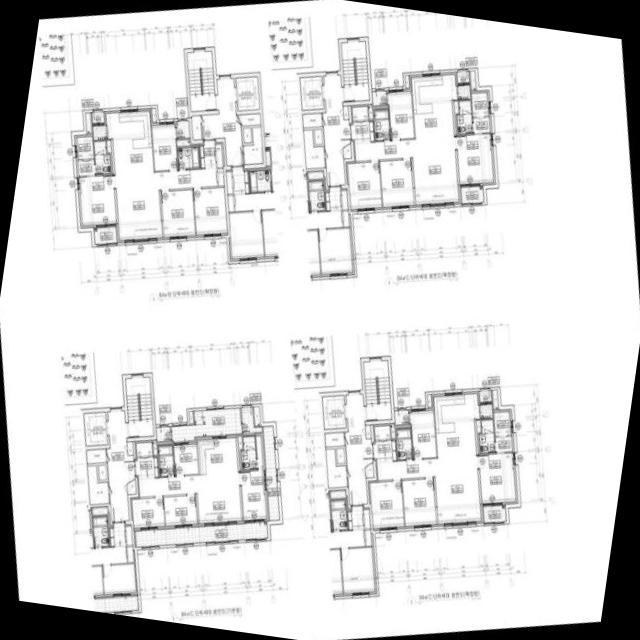background: (0, 0, 640, 640)
space_balconi: (135, 522, 268, 546), (171, 408, 241, 441), (263, 426, 279, 520), (94, 227, 117, 244), (483, 505, 506, 522), (461, 186, 483, 203)
space_bedroom: (240, 436, 266, 520), (456, 133, 493, 184), (479, 452, 516, 503), (79, 175, 116, 225), (347, 161, 382, 209), (370, 480, 404, 528), (402, 478, 436, 526), (380, 159, 414, 207), (161, 189, 195, 236), (193, 187, 227, 234), (388, 91, 414, 139), (410, 410, 436, 458), (151, 124, 177, 170), (131, 497, 165, 527), (164, 495, 197, 525), (174, 444, 198, 475)
space_dressroom: (471, 92, 490, 133), (493, 411, 512, 452), (76, 136, 94, 176)
space_elevator: (235, 77, 259, 110), (322, 395, 345, 429), (84, 412, 107, 445), (300, 76, 323, 109)
space_elevator_hall: (201, 78, 243, 165), (106, 410, 134, 521), (345, 394, 373, 504), (323, 75, 350, 185)
space_front: (199, 140, 223, 168), (350, 120, 374, 143), (135, 456, 158, 479), (373, 440, 397, 462)
space_kitchen: (106, 110, 153, 174), (411, 74, 458, 138), (434, 394, 480, 457), (197, 437, 238, 474)
space_living_room: (115, 167, 224, 239), (354, 137, 459, 204), (377, 456, 481, 523), (138, 472, 242, 523)
space_other: (87, 465, 109, 504), (303, 130, 325, 168), (326, 449, 347, 487), (243, 127, 263, 164), (86, 449, 106, 463), (302, 113, 322, 127), (325, 432, 344, 446), (238, 113, 260, 125), (176, 120, 190, 138), (106, 140, 113, 173), (156, 426, 171, 441), (136, 442, 152, 456), (374, 425, 390, 439), (352, 106, 368, 120), (192, 115, 201, 139), (394, 410, 409, 424), (93, 125, 107, 139), (372, 91, 386, 105), (480, 404, 492, 418), (458, 85, 470, 99), (476, 420, 481, 453), (365, 462, 374, 477), (127, 479, 136, 494), (336, 448, 345, 463), (454, 101, 458, 134), (238, 437, 242, 470), (343, 143, 351, 158), (243, 128, 251, 143), (98, 465, 106, 480), (85, 113, 91, 133), (314, 129, 322, 144), (254, 406, 260, 425), (493, 390, 498, 408), (471, 71, 476, 89), (127, 442, 133, 455), (365, 425, 371, 438), (343, 106, 349, 119), (177, 140, 189, 146), (152, 441, 157, 455), (368, 105, 373, 119), (391, 424, 395, 438), (152, 108, 156, 121), (405, 75, 409, 87), (427, 394, 431, 406), (189, 411, 193, 423)
space_outdoor_room: (241, 407, 262, 433), (479, 390, 491, 402), (92, 111, 104, 123), (457, 71, 469, 83)
space_staircase: (187, 51, 216, 111), (341, 41, 369, 101), (363, 360, 391, 420), (125, 377, 153, 437)
space_toilet: (373, 109, 390, 140), (94, 141, 110, 173), (177, 146, 200, 168), (396, 428, 412, 459), (241, 436, 256, 469), (479, 419, 494, 452), (457, 100, 472, 133), (158, 445, 174, 475)
